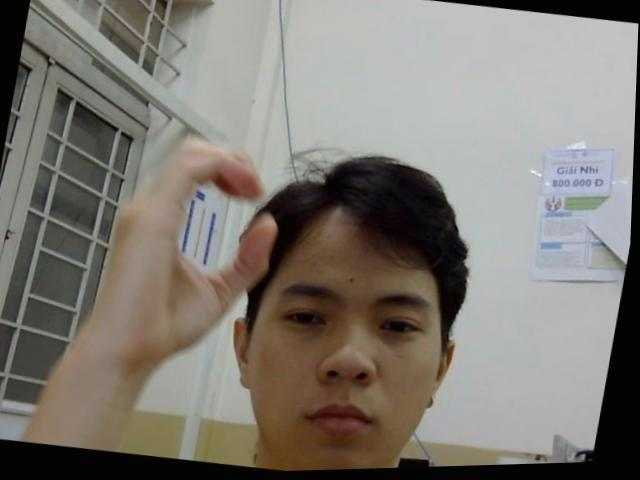C: (82, 125, 293, 381)
